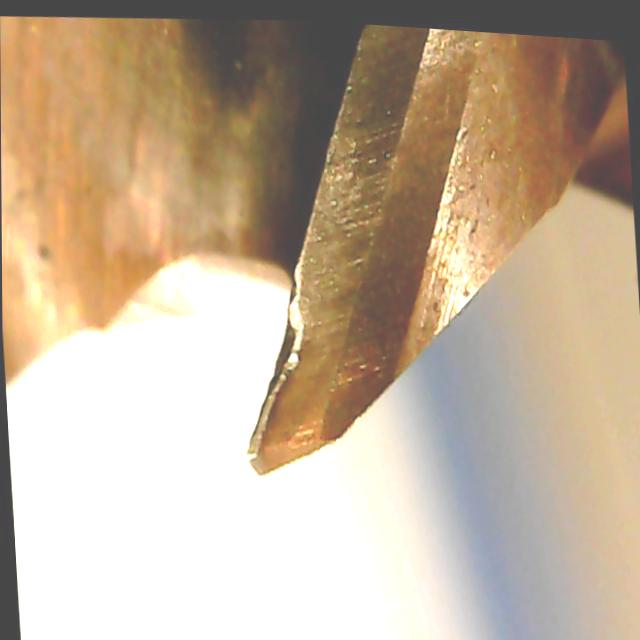Tool-wear-class-1: (221, 163, 400, 505)
